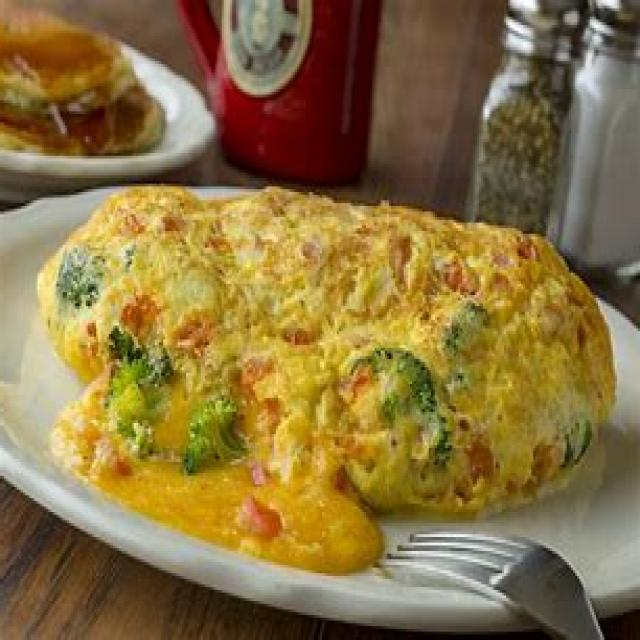Omelette: (42, 195, 617, 559)
Pancakes: (2, 9, 178, 164)
